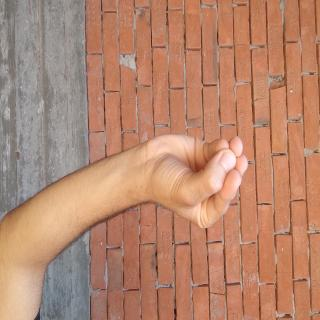HA: (93, 92, 175, 255)
